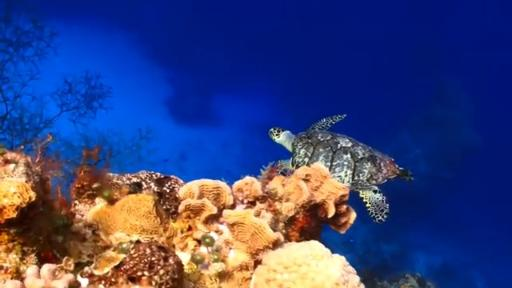Fish: (269, 115, 412, 223)
